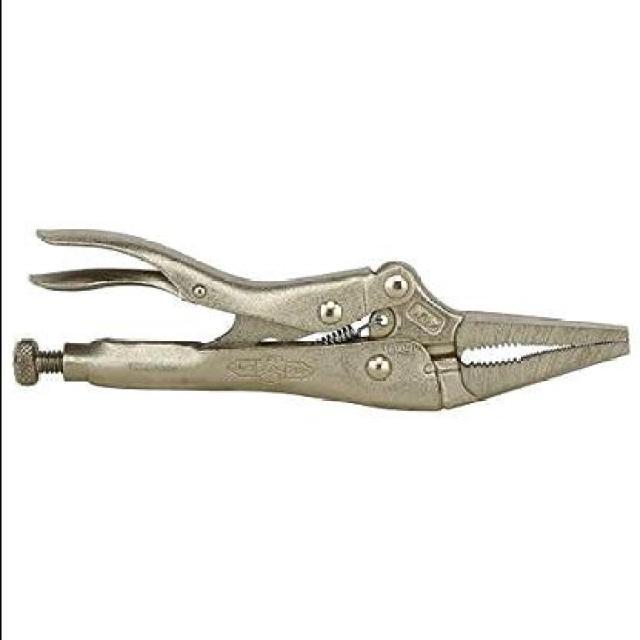pliers: (11, 197, 637, 411)
